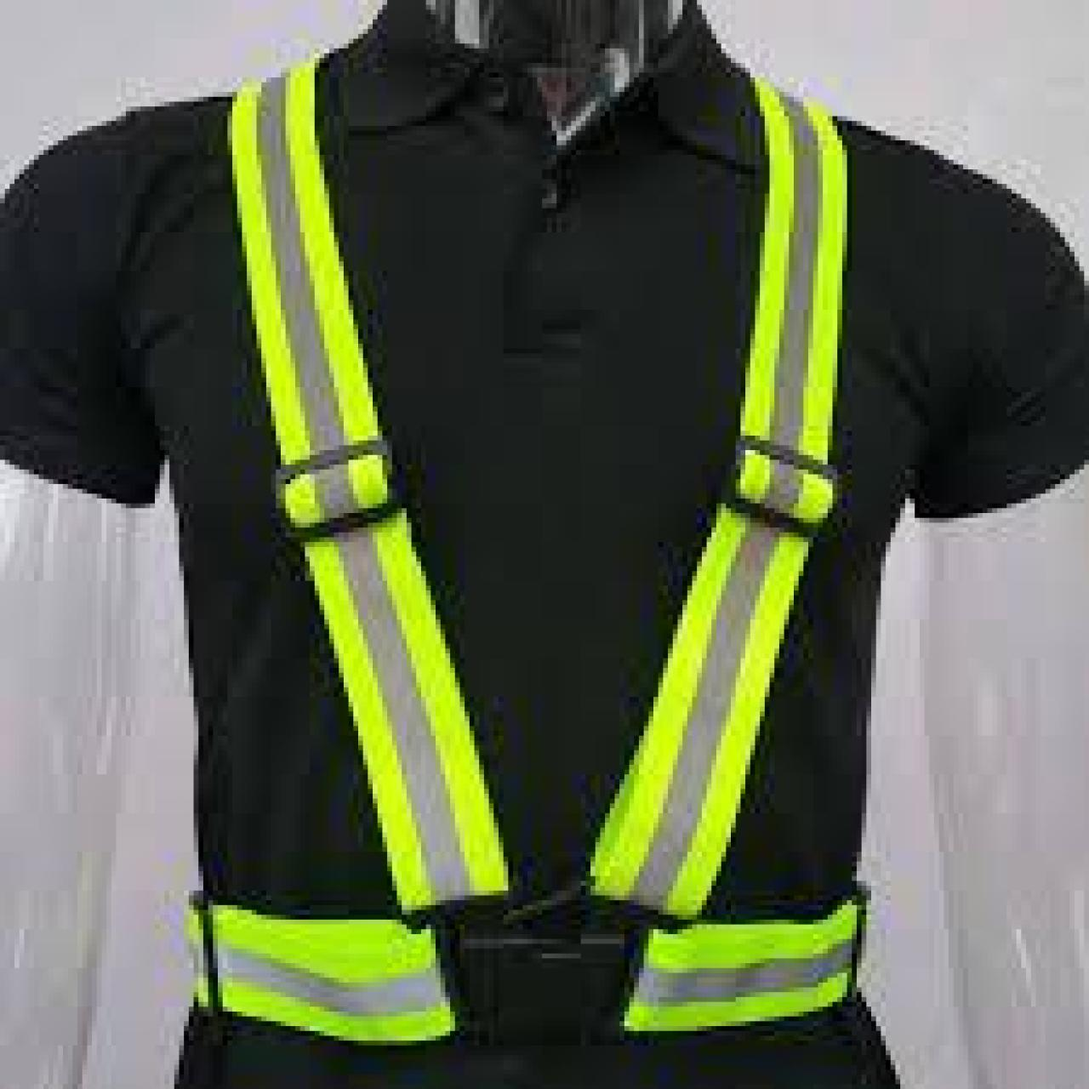NO_Safety_Vest: (91, 0, 1039, 1089)
